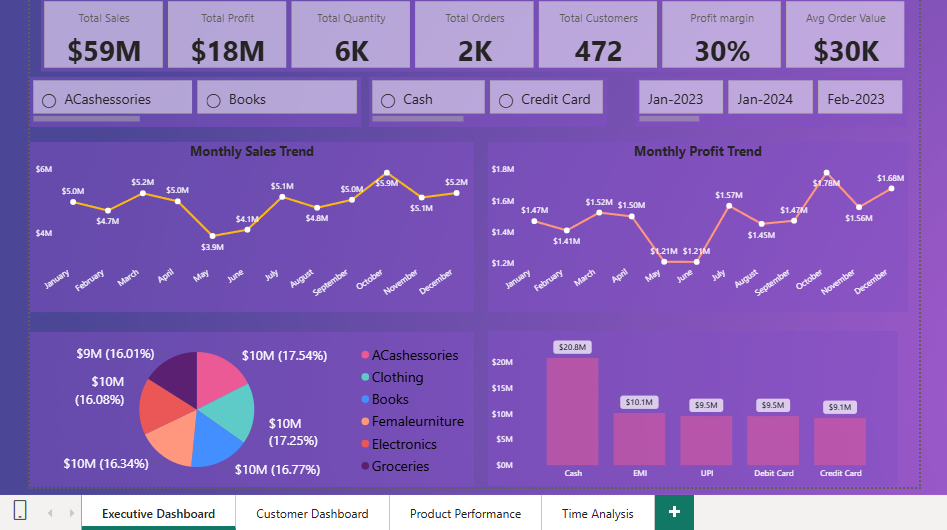

The page's visual inventory and layout, read from the dashboard file:
{"tool":"powerbi","page":{"name":"Executive Dashboard","canvas":[1280,720],"ordinal":0},"visuals":[{"type":"cardVisual","fields":{"Data":["_All Measures.Total Sales","_All Measures.Total Profit","_All Measures.Total Quantity","_All Measures.Total Orders","_All Measures.Total Customers","_All Measures.Profit margin","_All Measures.Avg Order Value"]},"box":[15.4,15.4,1249.2,106],"z":0},{"type":"advancedSlicerVisual","fields":{"Values":["Sales.payment_mode"]},"box":[488.8,129.9,343.5,71.8],"z":1000},{"type":"advancedSlicerVisual","fields":{"Values":["Date.year month"]},"box":[873.3,129.9,391.3,71.8],"z":2000},{"type":"advancedSlicerVisual","fields":{"Values":["Sales.product_category"]},"box":[0,129.9,476.8,71.8],"z":3000},{"type":"lineChart","title":"Monthly Sales Trend","fields":{"Y":["_All Measures.Total Sales"],"Category":["Date.month_name"]},"box":[0,223.2,639.4,244.8],"z":4000},{"type":"lineChart","title":"Monthly Profit Trend","fields":{"Y":["_All Measures.Total Profit"],"Category":["Date.month_name"]},"box":[659.5,223.2,604.8,244.8],"z":4001},{"type":"pieChart","title":"Sales By Product Category","fields":{"Y":["_All Measures.Total Sales"],"Category":["Sales.product_category"]},"box":[0,496.8,639.4,223.2],"z":4002},{"type":"lineStackedColumnComboChart","title":"Sales By Product Category","fields":{"Category":["Sales.payment_mode"],"Y":["_All Measures.Total Sales"]},"box":[659.5,495.4,590.4,223.2],"z":4003}]}

Visuals, with their boxes on the page's 1280x720 design canvas (x1, y1, x2, y2). These are canvas units, not pixel positions in the 947x530 screenshot, which may show the page scaled, cropped or inside an application window:
cardVisual - _All Measures.Total Sales x _All Measures.Total Profit: x1=15, y1=15, x2=1265, y2=121
advancedSlicerVisual - Sales.payment_mode: x1=489, y1=130, x2=832, y2=202
advancedSlicerVisual - Date.year month: x1=873, y1=130, x2=1265, y2=202
advancedSlicerVisual - Sales.product_category: x1=0, y1=130, x2=477, y2=202
"Monthly Sales Trend" lineChart: x1=0, y1=223, x2=639, y2=468
"Monthly Profit Trend" lineChart: x1=660, y1=223, x2=1264, y2=468
"Sales By Product Category" pieChart: x1=0, y1=497, x2=639, y2=720
"Sales By Product Category" lineStackedColumnComboChart: x1=660, y1=495, x2=1250, y2=719
